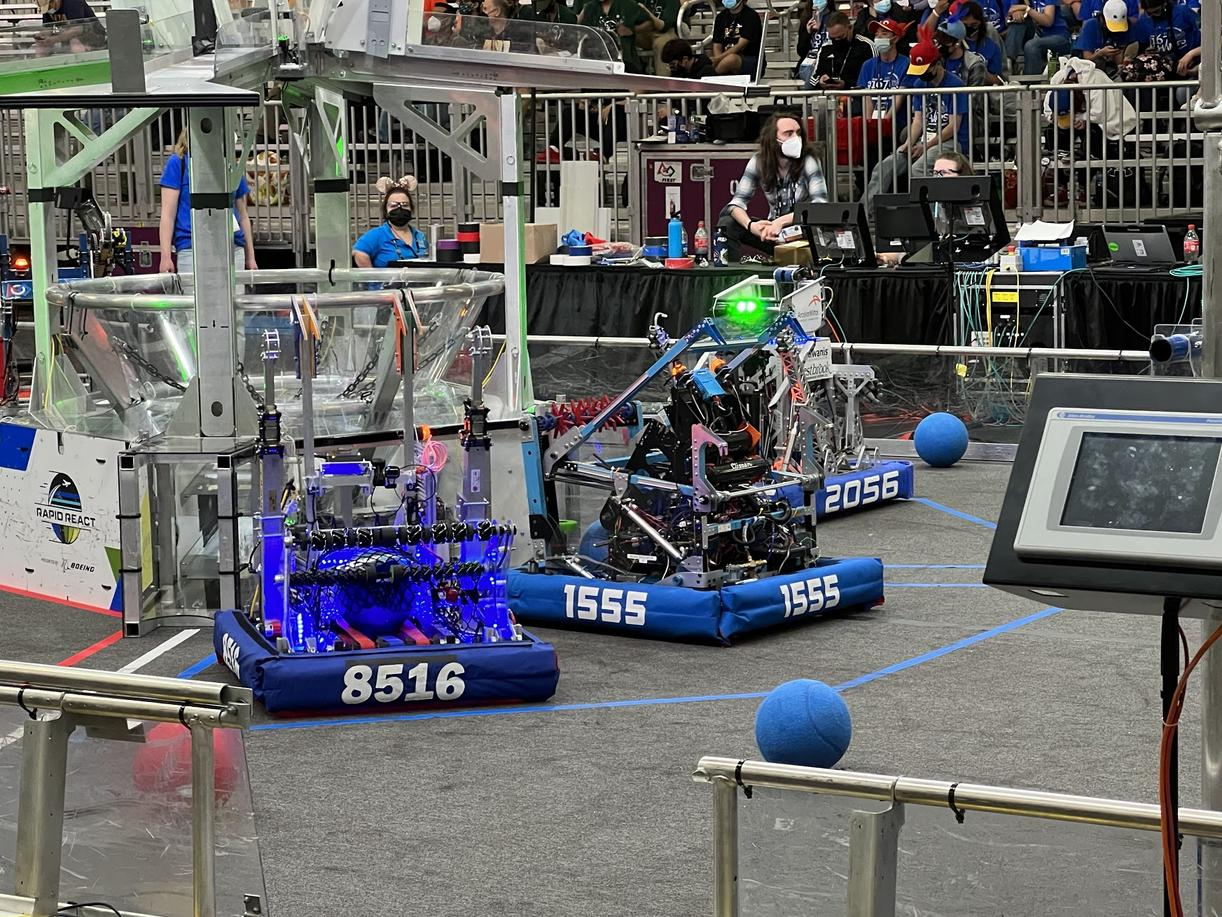robot: (484, 253, 893, 649), (211, 290, 561, 732), (584, 248, 923, 534)
